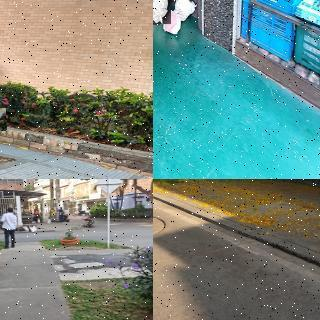Garbage: (162, 9, 184, 37), (153, 0, 172, 25), (175, 0, 199, 19), (0, 108, 6, 131), (29, 225, 37, 232), (16, 226, 25, 231), (22, 226, 29, 231)
